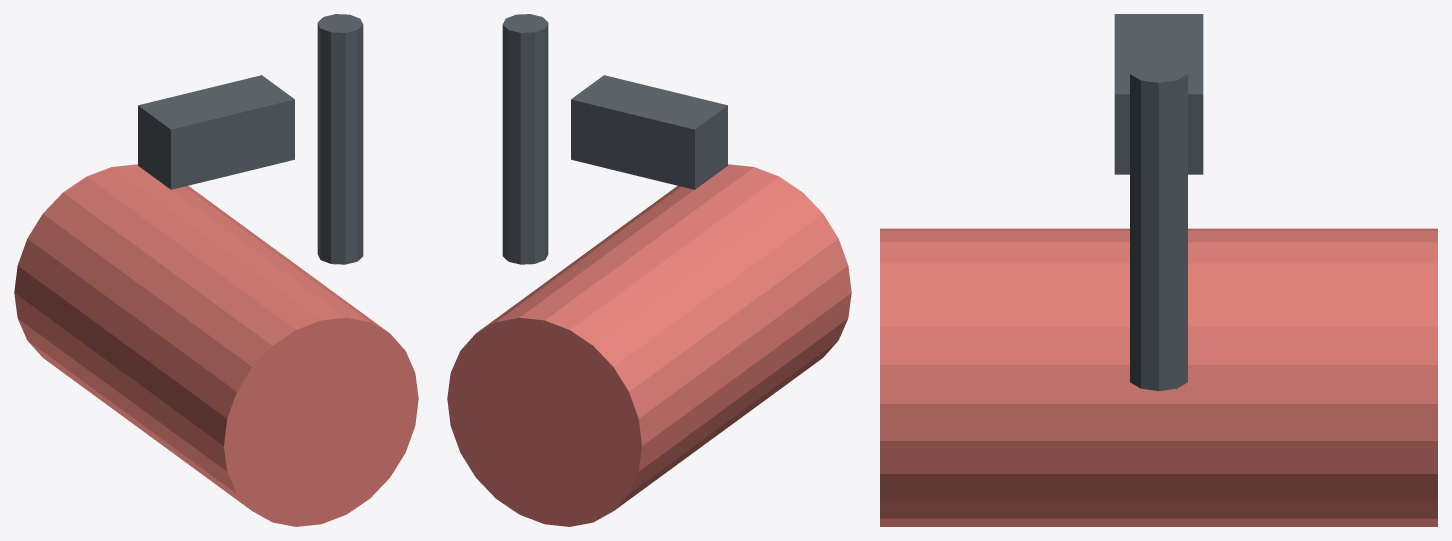
The model's file is extinguisher_lod1.glb.
3 views of the same model, side by side, from view 1: azimuth 30°, elevation 25°; view 2: azimuth 150°, elevation 25°; view 3: azimuth 270°, elevation 25° (orthographic). The views are drawn at different scales.
Parts seen in each view (by area): view 1: part_0, part_1, part_2; view 2: part_0, part_1, part_2; view 3: part_0, part_2, part_1.
Boxes of the visible parts, left/top/right/bottom form: part_0: left=14, top=164, right=418, bottom=526; part_1: left=138, top=75, right=294, bottom=189; part_2: left=317, top=14, right=363, bottom=264; part_0: left=447, top=164, right=851, bottom=526; part_1: left=571, top=75, right=727, bottom=189; part_2: left=502, top=14, right=548, bottom=264; part_0: left=880, top=228, right=1437, bottom=526; part_2: left=1130, top=57, right=1187, bottom=390; part_1: left=1114, top=14, right=1203, bottom=174.
Size of the model in its own units: 0.545 by 0.85 by 0.82.
